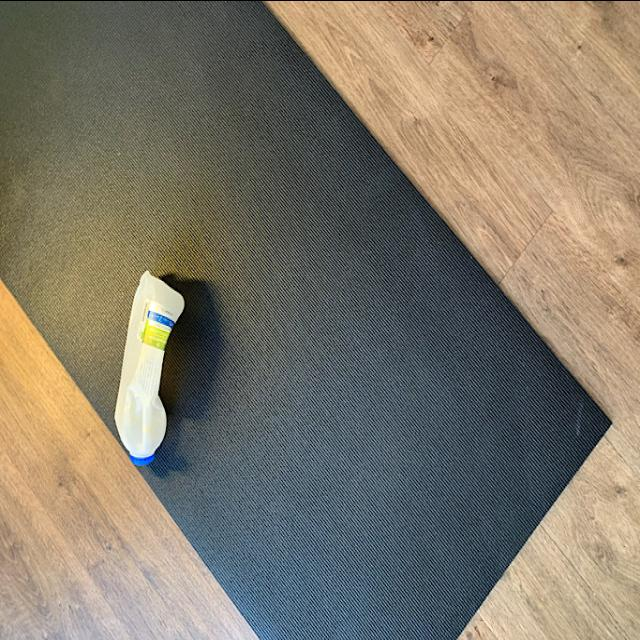HDPEM: (116, 262, 182, 468)
